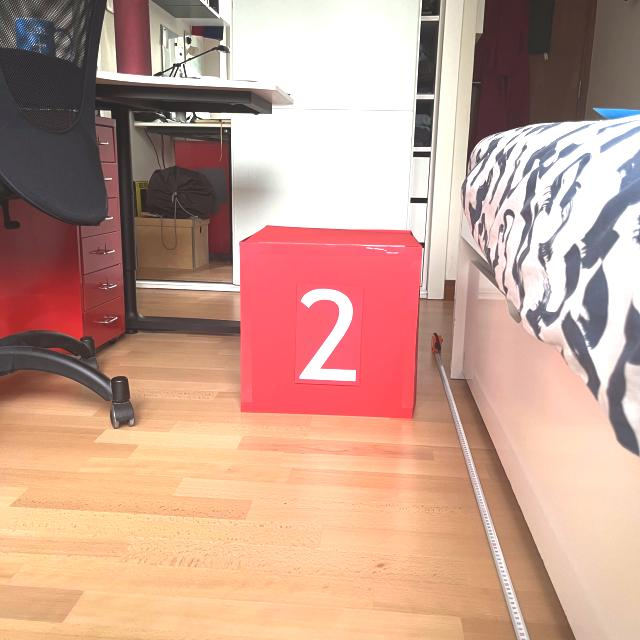box: (234, 220, 425, 420)
